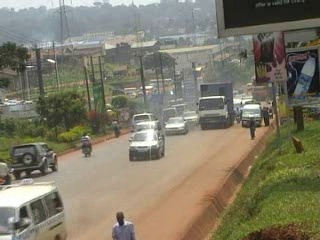Car: (8, 140, 59, 178), (126, 128, 168, 163), (130, 120, 164, 140), (163, 114, 188, 137), (180, 109, 199, 126)
Motorcycle: (0, 155, 16, 188), (80, 129, 94, 159), (233, 106, 243, 124)
